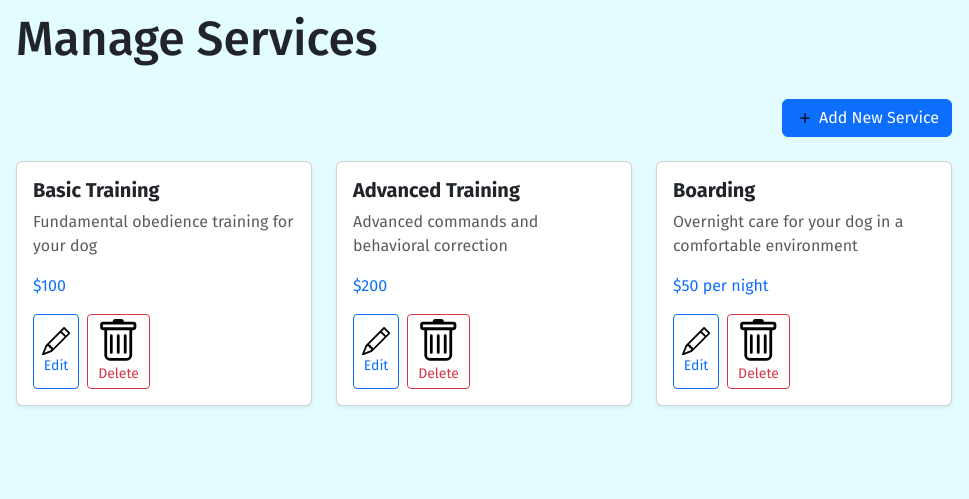
Test case: ManageServices Component › handles delete service errors gracefully
The width and height of the screenshot is (969, 499).
expect the text "Basic Training" is shown: met, box left=33, top=178, right=160, bottom=202
Find and click the Delete button for the first service
Click the button "Delete" below "$100": click(119, 351) left=87, top=314, right=150, bottom=389
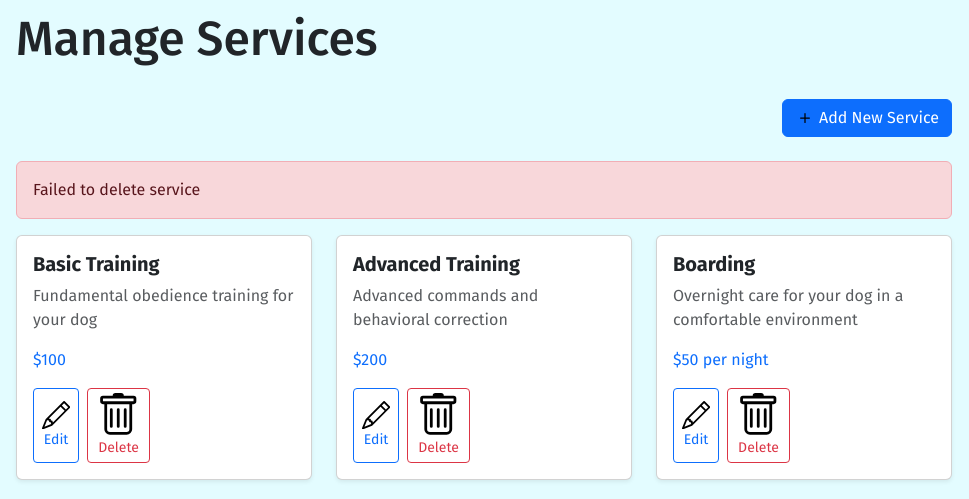
expect the text "Failed to delete service" is shown: met, box left=16, top=161, right=952, bottom=219
